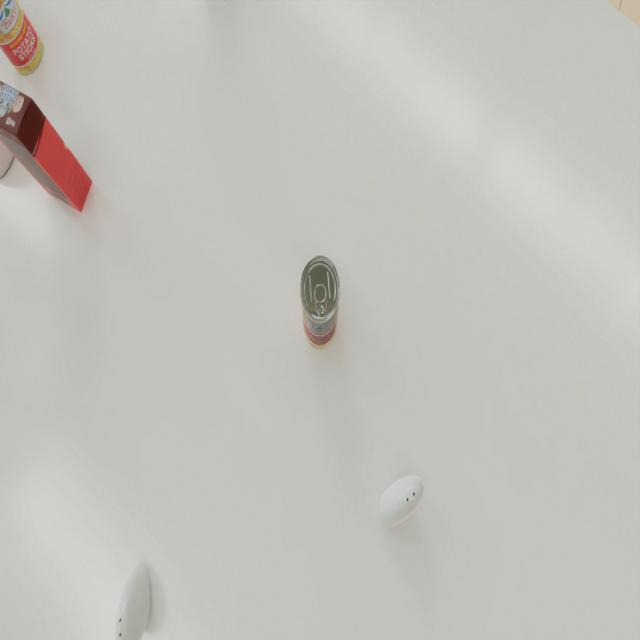HelloPanda: (0, 76, 92, 212)
Potato_sticks: (300, 255, 340, 350)
Salt: (115, 564, 151, 640), (379, 476, 424, 528)
